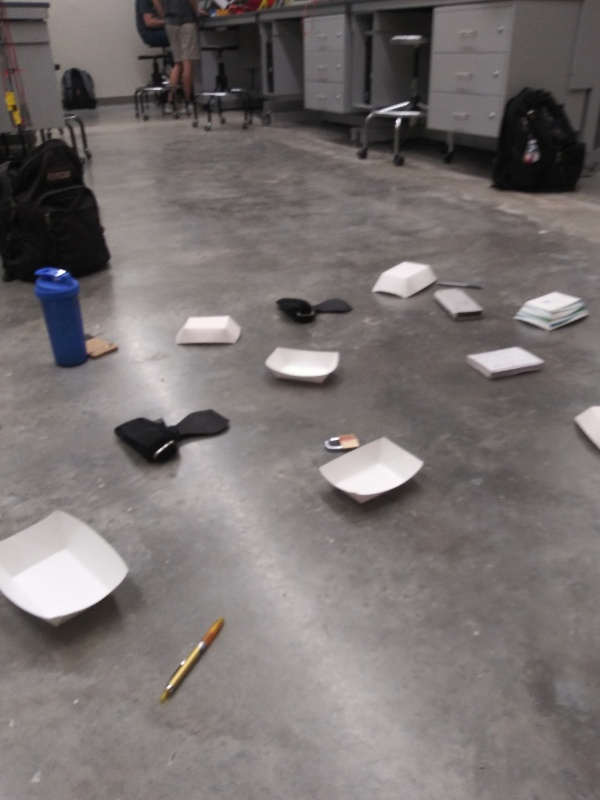plate: (1, 504, 136, 635), (313, 433, 435, 511), (509, 287, 594, 338), (259, 343, 344, 388), (368, 257, 443, 301), (172, 311, 246, 353), (570, 398, 600, 462)
